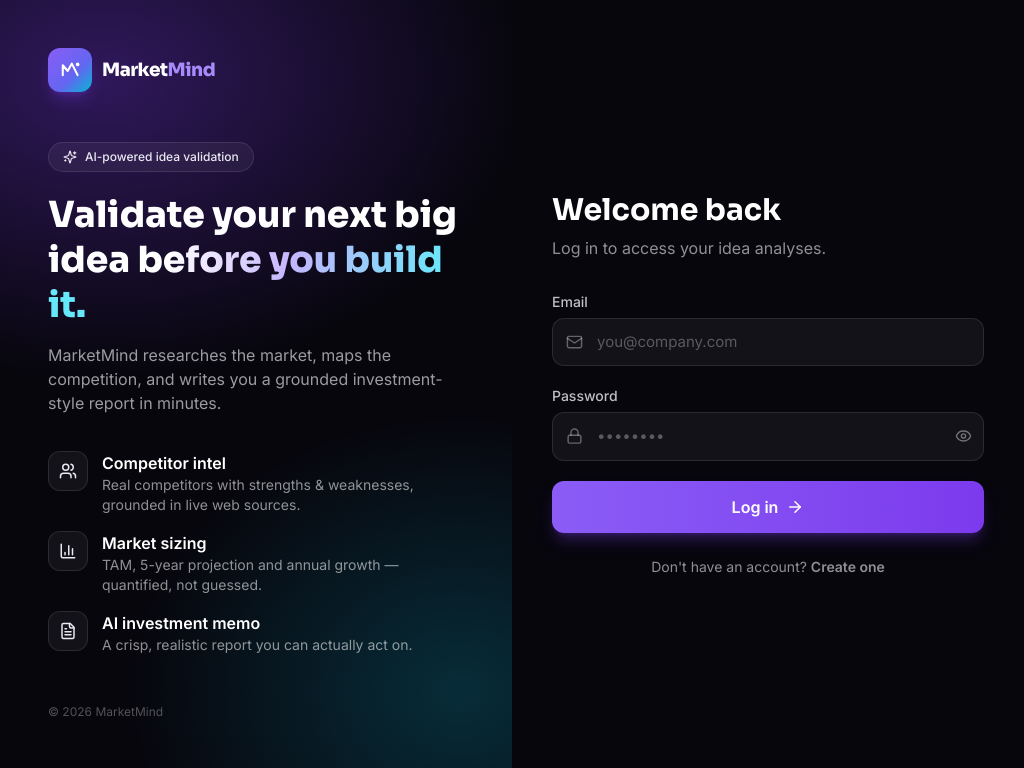
Scenario: Login journey › shows a validation message when fields are empty
Click the button "Log in".
click(768, 506)  # box [552,480,984,532]
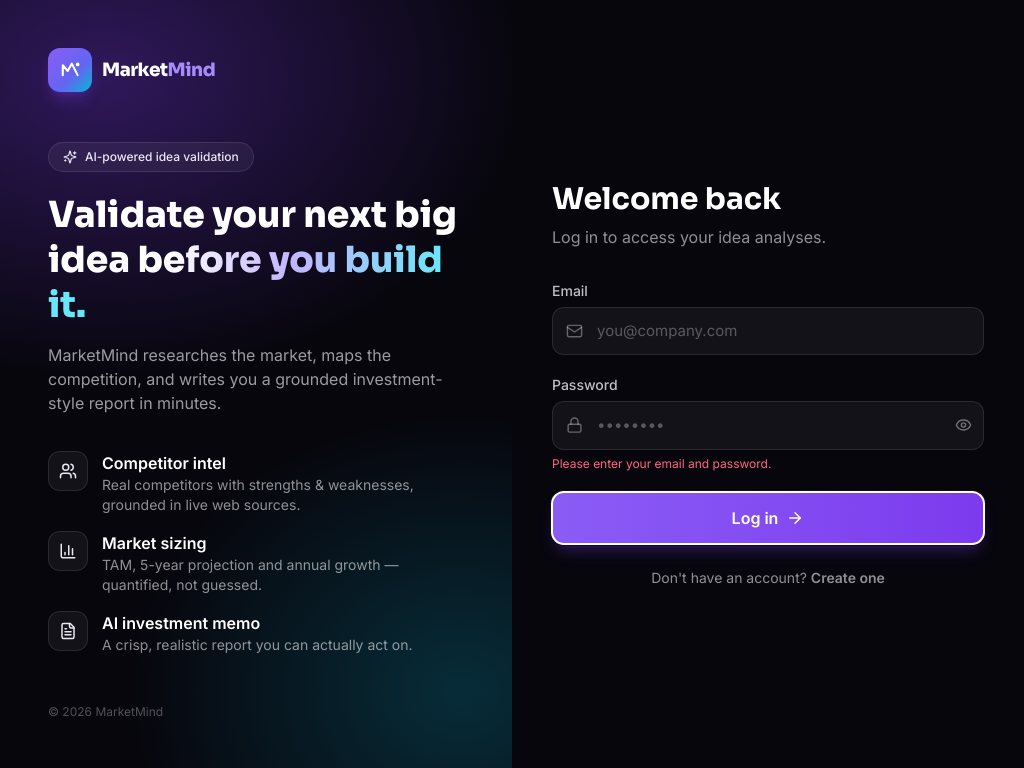
Check: the text "Please enter your email and password." is shown, box [552,456,771,470]
